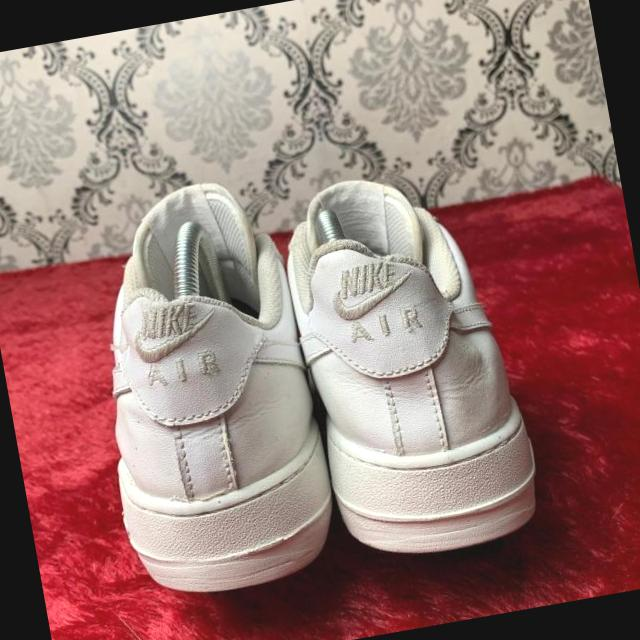nike_fake_airforce: (70, 173, 352, 606), (275, 160, 550, 574)
